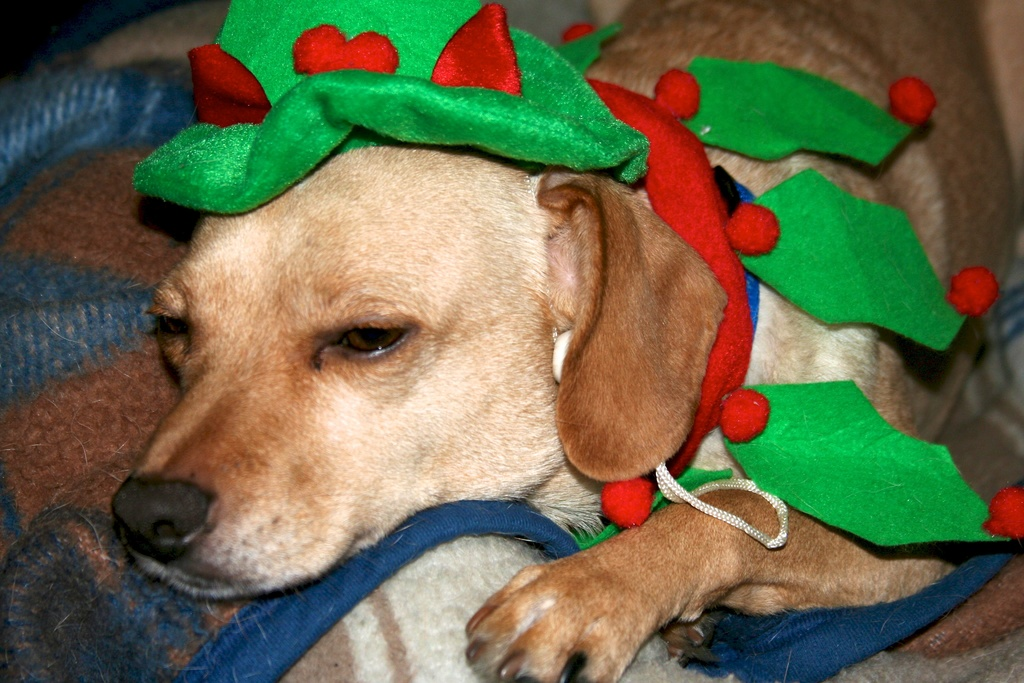Dog face: (104, 152, 727, 598)
